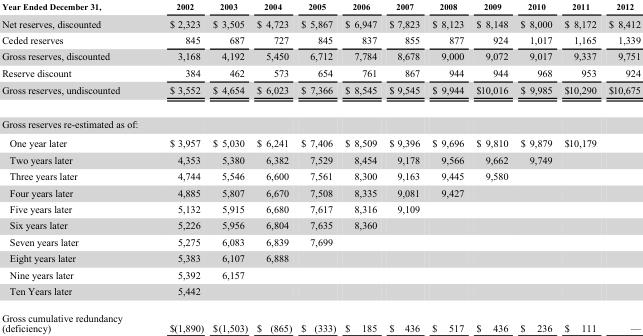table: (1, 1, 640, 332)
table column: (1, 1, 145, 332), (145, 1, 207, 332), (207, 1, 251, 332), (251, 1, 295, 332), (295, 1, 339, 332), (425, 1, 469, 332), (469, 1, 513, 332), (513, 1, 557, 332), (557, 1, 601, 332), (339, 1, 382, 332), (382, 1, 425, 332), (601, 1, 640, 332)
table column header: (1, 1, 640, 14)
table projected row header: (1, 106, 640, 133)
table row: (1, 303, 640, 332), (1, 106, 640, 133), (1, 81, 640, 106), (1, 282, 640, 303), (1, 133, 640, 151), (1, 14, 640, 31), (1, 47, 640, 64), (1, 64, 640, 81), (1, 167, 640, 184), (1, 216, 640, 233), (1, 249, 640, 266), (1, 31, 640, 47), (1, 151, 640, 167), (1, 184, 640, 200), (1, 200, 640, 216), (1, 233, 640, 249), (1, 266, 640, 282), (1, 1, 640, 14)
